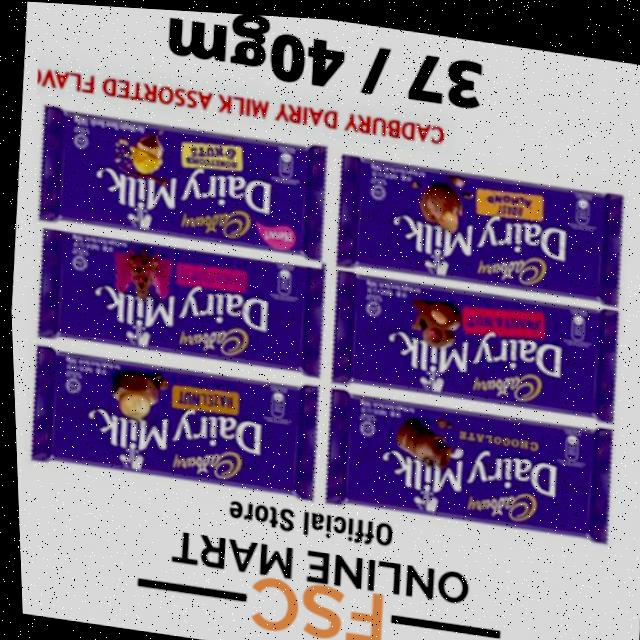cadbury: (56, 107, 319, 259), (327, 393, 611, 532), (57, 226, 305, 360), (348, 274, 610, 399), (353, 163, 604, 293), (48, 351, 293, 484)
